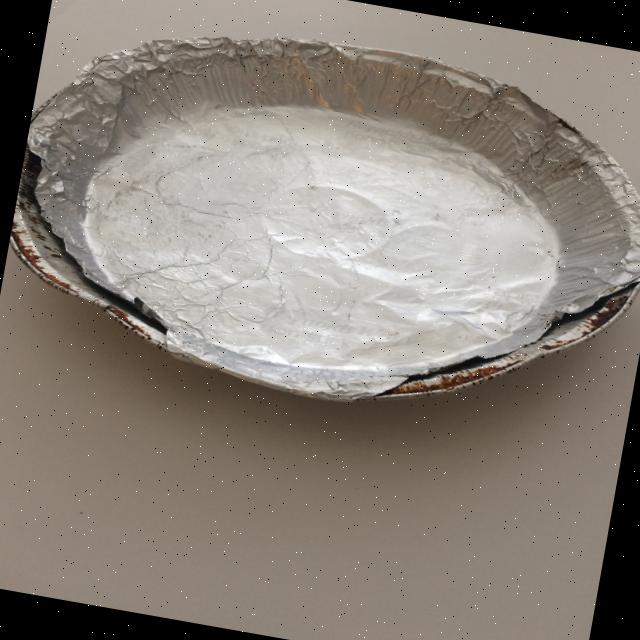metal: (0, 0, 640, 452)
